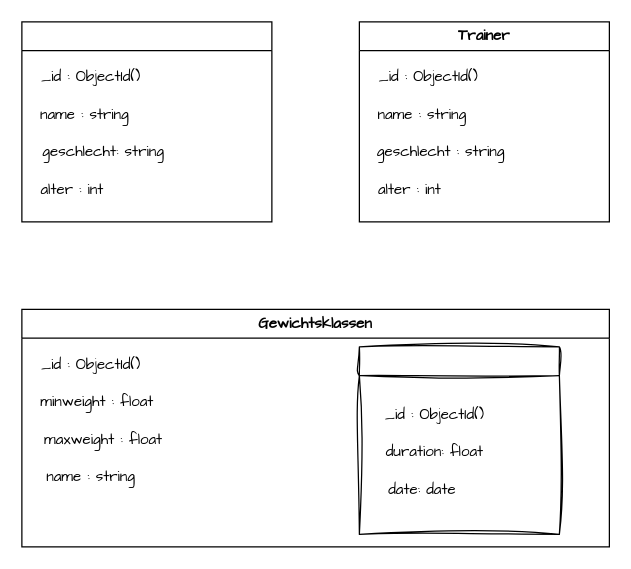
Image size: 631x569. Some labels were removed from this diagram. Here are the shapes that lost their labels. From the top down, the box of each, then its label:
(21, 21, 272, 222): Mitglied
(358, 346, 559, 534): Trainingseinheit
